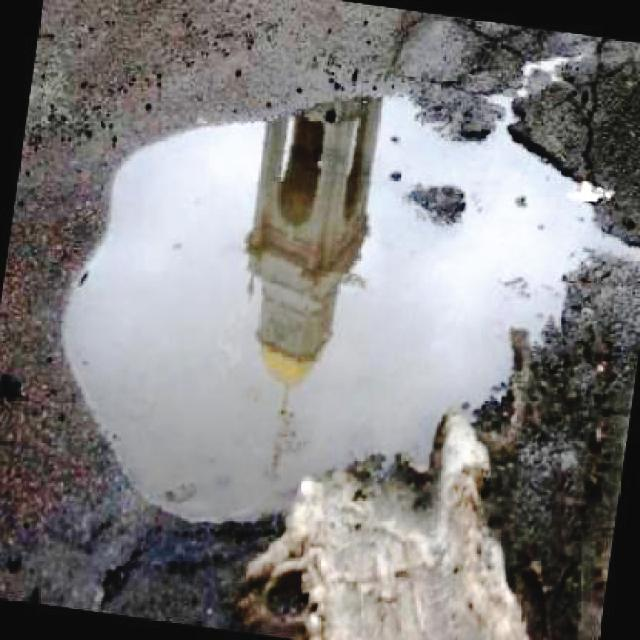pothole: (47, 38, 640, 546)
